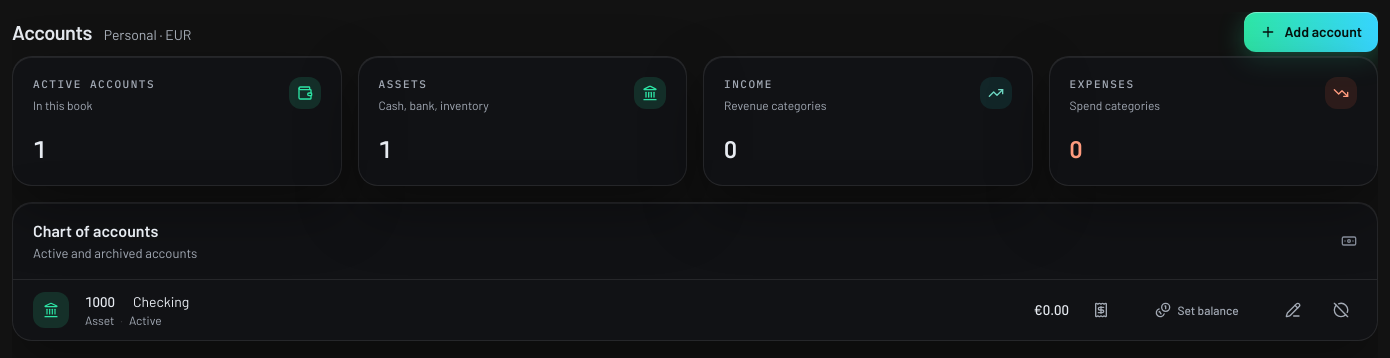
Test case: AccountsPage register drill-in › register load failure with an unknown code never shows the raw message
Check: the text "Checking" is shown, box [133,292,189,312]
Click the button named "checking register". click: x=1101, y=310
box: [1085,294,1117,326]
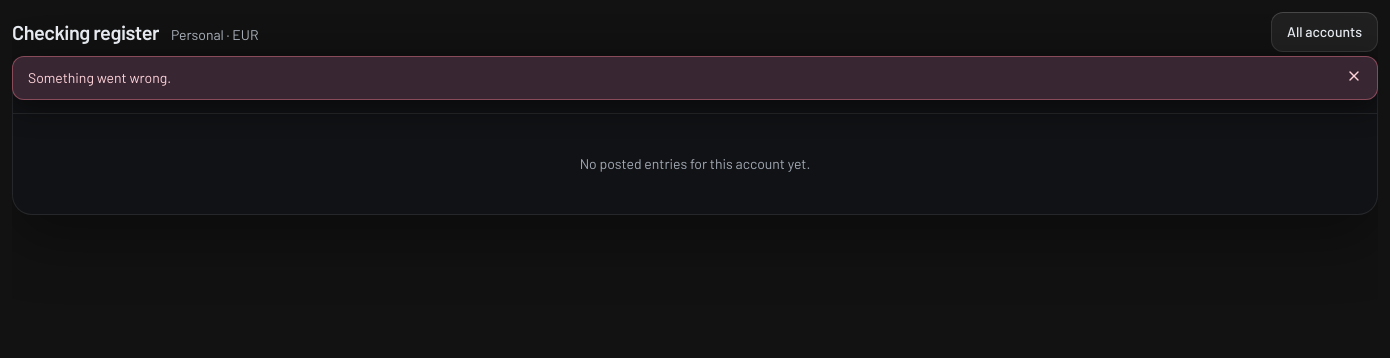
Check: the message reads "Something went wrong.", box [28,69,171,86]
